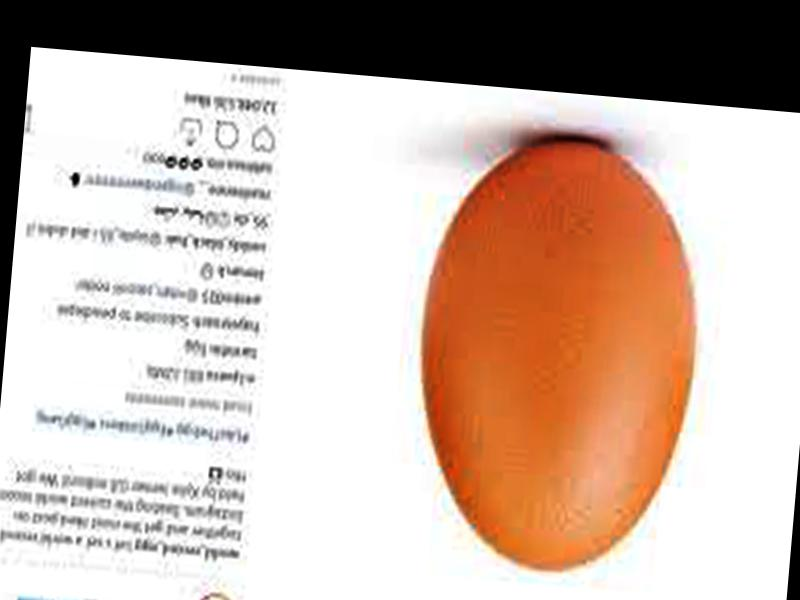Eggs: (405, 132, 713, 581)
